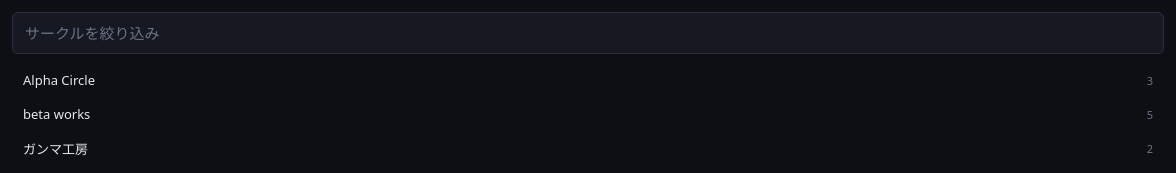
CircleFacetPanel クライアントサイド絞り込み › マッチしない語では 0 件になり「サークルがありません」が表示される
Check: the text "Alpha Circle" is shown, box [23, 71, 95, 89]
In the search field with placeholder "サークルを絞り込み": (588, 33) [12, 12, 1164, 54], type "存在しない語"
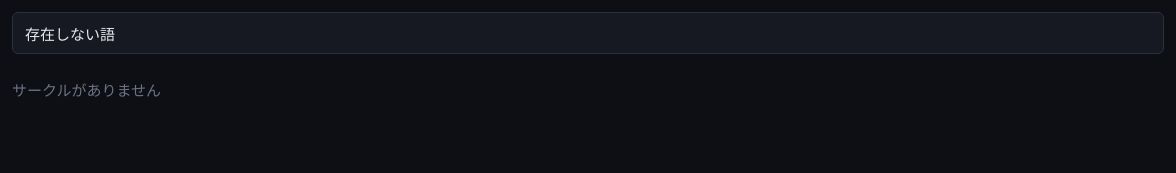
Check: the text "サークルがありません" is shown, box [12, 80, 161, 100]
